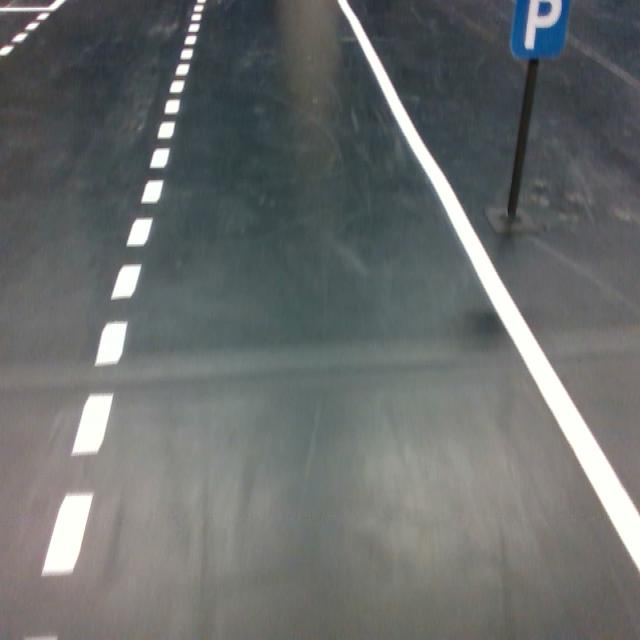parking-sign: (507, 0, 571, 60)
